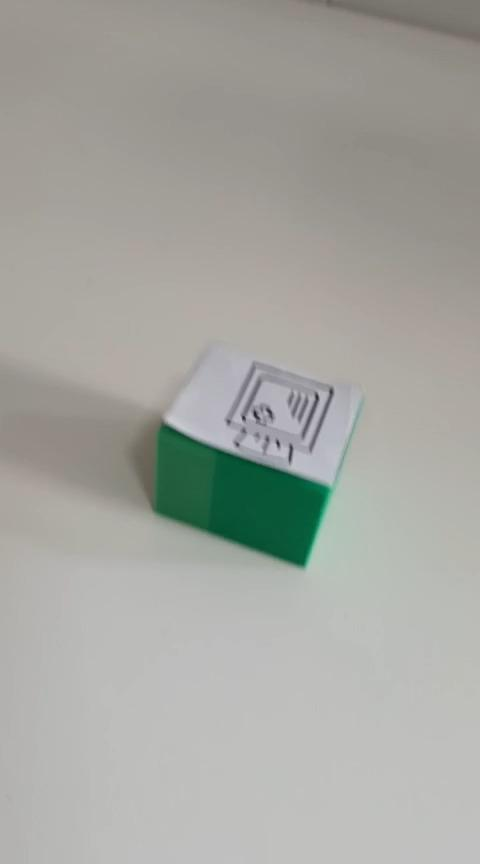Gauze: (151, 340, 365, 570)
